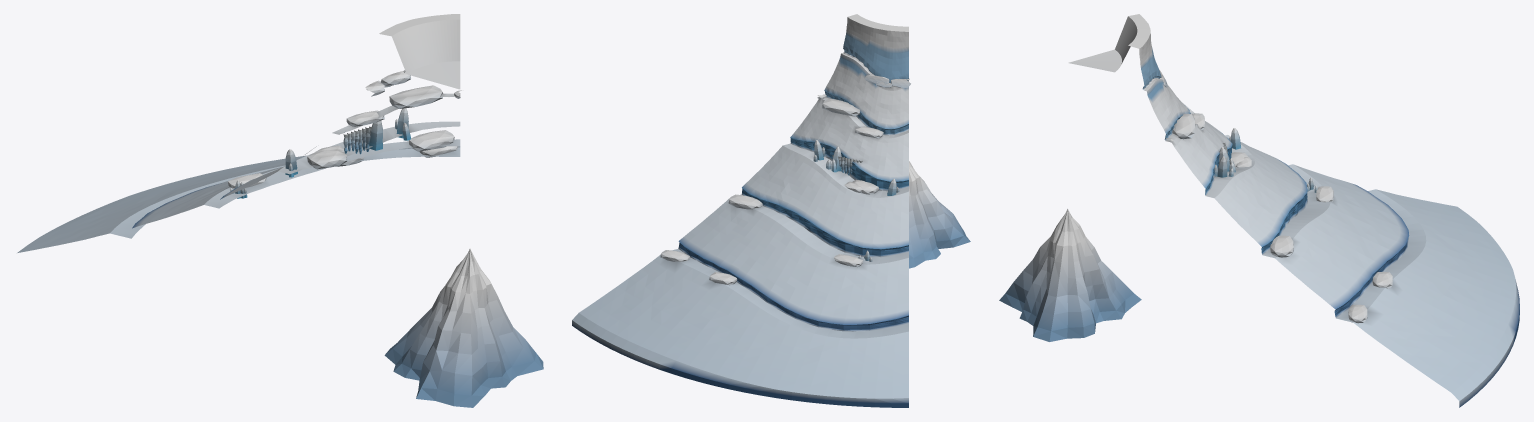
Rendered from glacier-s4-DOAypfnB.glb.
The picture shows the model from 3 angles, left to right: view 1: azimuth 30°, elevation 25°; view 2: azimuth 150°, elevation 25°; view 3: azimuth 270°, elevation 25°; orthographic projection. The views are drawn at different scales.
Visible parts, largest first — view 1: sc_landmark_1, sc_peak_1; view 2: sc_landmark_1, sc_peak_1; view 3: sc_landmark_1, sc_peak_1.
Boxes of the visible parts, <box> form: sc_landmark_1: <box>17,14,461,252</box>; sc_peak_1: <box>384,249,543,407</box>; sc_landmark_1: <box>572,14,910,407</box>; sc_peak_1: <box>909,161,970,268</box>; sc_landmark_1: <box>1068,14,1519,407</box>; sc_peak_1: <box>999,209,1141,341</box>.
Size of the model in its own units: 416 by 286 by 480.
